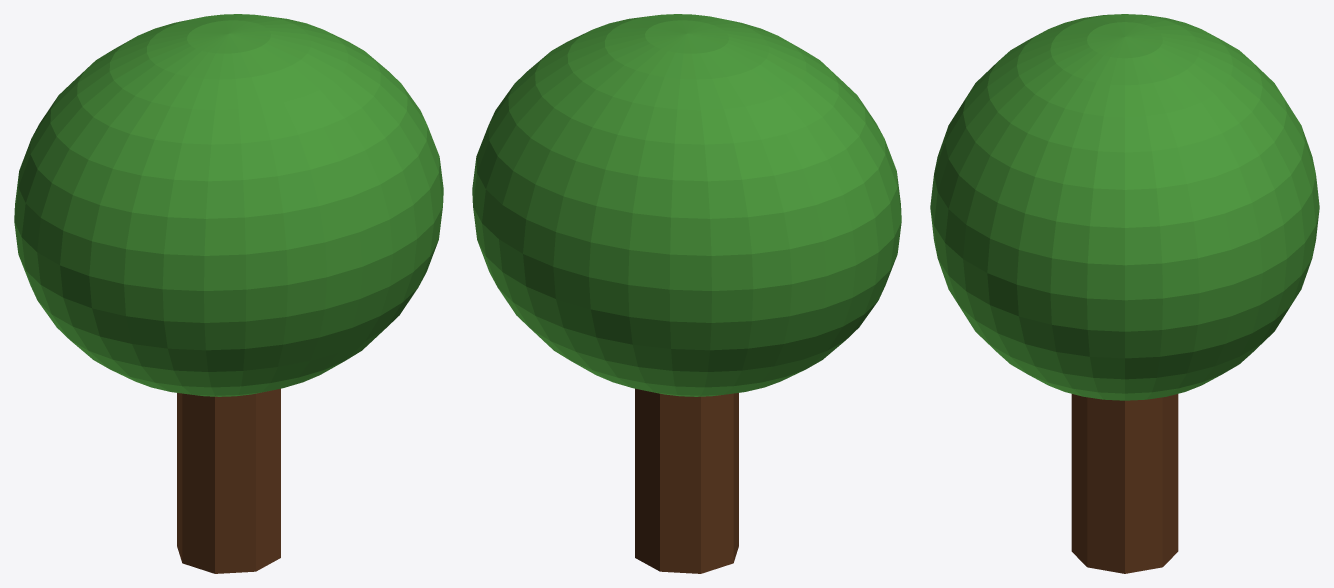
Rendered from listovec1.glb.
The picture shows the model from 3 angles, left to right: view 1: azimuth 30°, elevation 25°; view 2: azimuth 150°, elevation 25°; view 3: azimuth 270°, elevation 25°; orthographic projection.
Parts seen in each view (by area): view 1: Sphere; view 2: Sphere; view 3: Sphere.
Boxes of the visible parts, bbox=[...] form: Sphere: bbox=[14, 14, 443, 573]; Sphere: bbox=[472, 14, 901, 573]; Sphere: bbox=[930, 14, 1319, 573].
Bounding box in the file's own units: 8.22 × 10.61 × 7.28.
